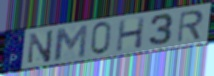0: (89, 20, 113, 57)
3: (148, 13, 176, 47)
H: (115, 16, 147, 53)
M: (53, 23, 90, 62)
N: (27, 28, 55, 65)
R: (176, 8, 206, 44)
